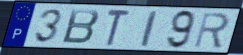3: (34, 8, 64, 44)
9: (165, 9, 197, 50)
B: (60, 8, 102, 45)
I: (140, 10, 159, 49)
R: (192, 11, 231, 49)
T: (106, 8, 132, 48)
